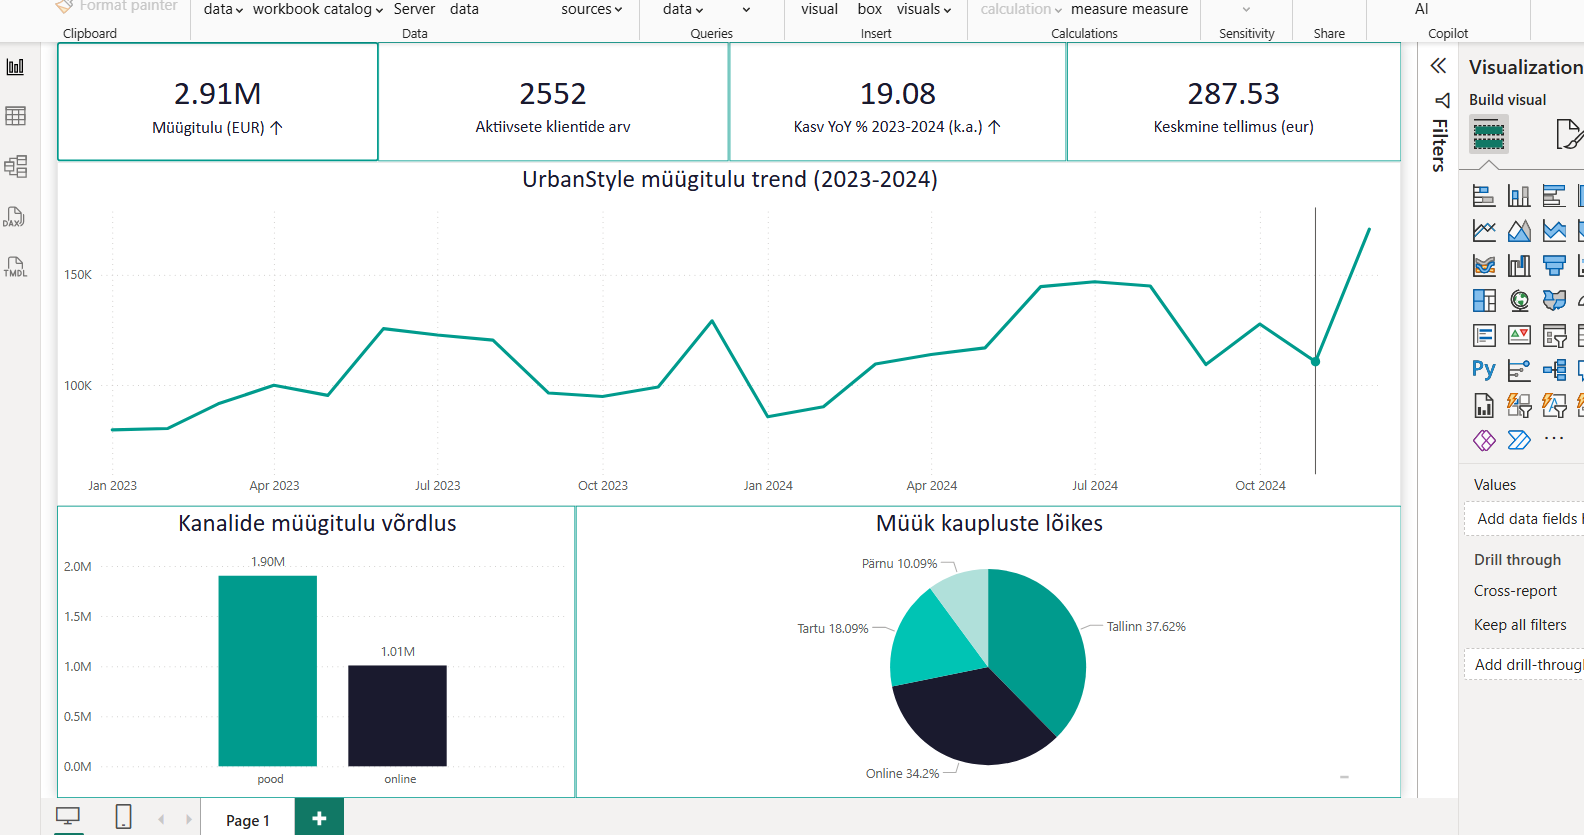

The dashboard page shown, as its layout file describes it:
{"tool":"powerbi","page":{"name":"Page 1","canvas":[1280,720],"ordinal":0},"visuals":[{"type":"card","fields":{"Values":["Sum(sales_rows.total_price)"]},"box":[0,0,306,113.9],"z":0},{"type":"card","fields":{"Values":["Count(sales_rows.customer_id)"]},"box":[306,0,333.4,113.9],"z":1000},{"type":"card","fields":{"Values":["customers_rows.GrowthYoY"]},"box":[640.8,0,321.1,113.9],"z":2000},{"type":"lineChart","title":"UrbanStyle müügitulu trend (2023-2024)","fields":{"Y":["Sum(sales_rows.total_price)"],"Category":["sales_rows.Start of Month"]},"box":[0,113.9,1280.3,328],"z":3000},{"type":"card","fields":{"Values":["Avg(sales_rows.total_price)"]},"box":[961.9,0,318.4,113.9],"z":4000},{"type":"pieChart","title":"Müük kaupluste lõikes","fields":{"Category":["sales_rows.store_location"],"Y":["Sum(sales_rows.total_price)"]},"box":[494,441.9,786.3,278.6],"z":5000},{"type":"clusteredColumnChart","title":"Kanalide müügitulu võrdlus","fields":{"Category":["sales_rows.channel"],"Y":["Sum(sales_rows.total_price)"]},"box":[0,441.9,494,278.6],"z":6000},{"type":"textbox","box":[933.1,694.3,301.9,12.3],"z":7000}]}

Visuals, with their boxes on the page's 1280x720 design canvas (x1, y1, x2, y2). These are canvas units, not pixel positions in the 1584x835 screenshot, which may show the page scaled, cropped or inside an application window:
card - Sum(sales_rows.total_price): rect(0, 0, 306, 114)
card - Count(sales_rows.customer_id): rect(306, 0, 639, 114)
card - customers_rows.GrowthYoY: rect(641, 0, 962, 114)
"UrbanStyle müügitulu trend (2023-2024)" lineChart: rect(0, 114, 1280, 442)
card - Avg(sales_rows.total_price): rect(962, 0, 1280, 114)
"Müük kaupluste lõikes" pieChart: rect(494, 442, 1280, 720)
"Kanalide müügitulu võrdlus" clusteredColumnChart: rect(0, 442, 494, 720)
textbox: rect(933, 694, 1235, 707)
